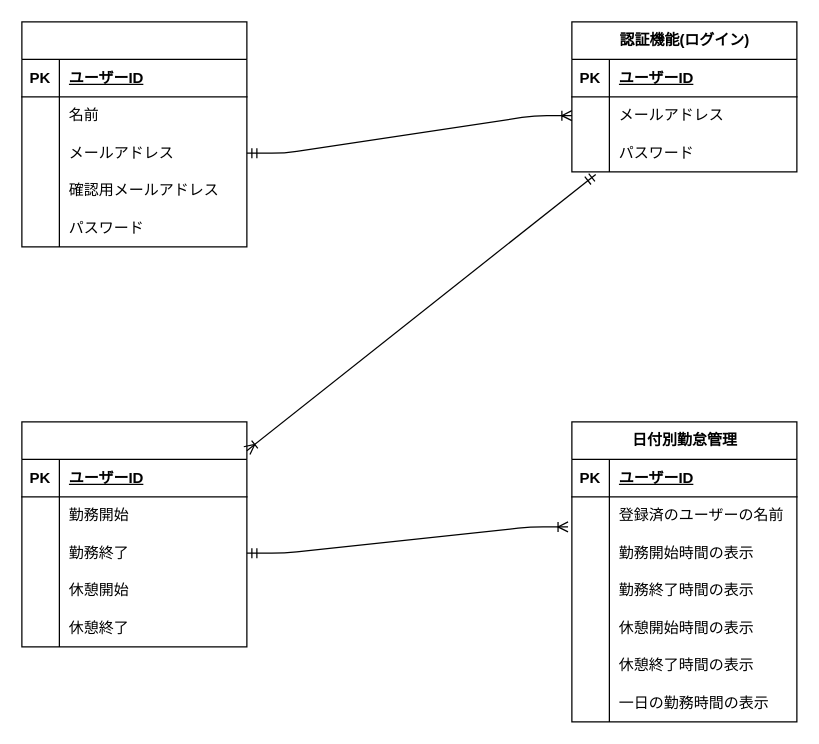
The diagram is 819 pixels wide and 744 high, and some of its shapes have lost their labels. Each missing label, with the box of its shape:
勤務時間の打刻: (21, 421, 247, 647)
認証機能(登録): (21, 21, 247, 247)
